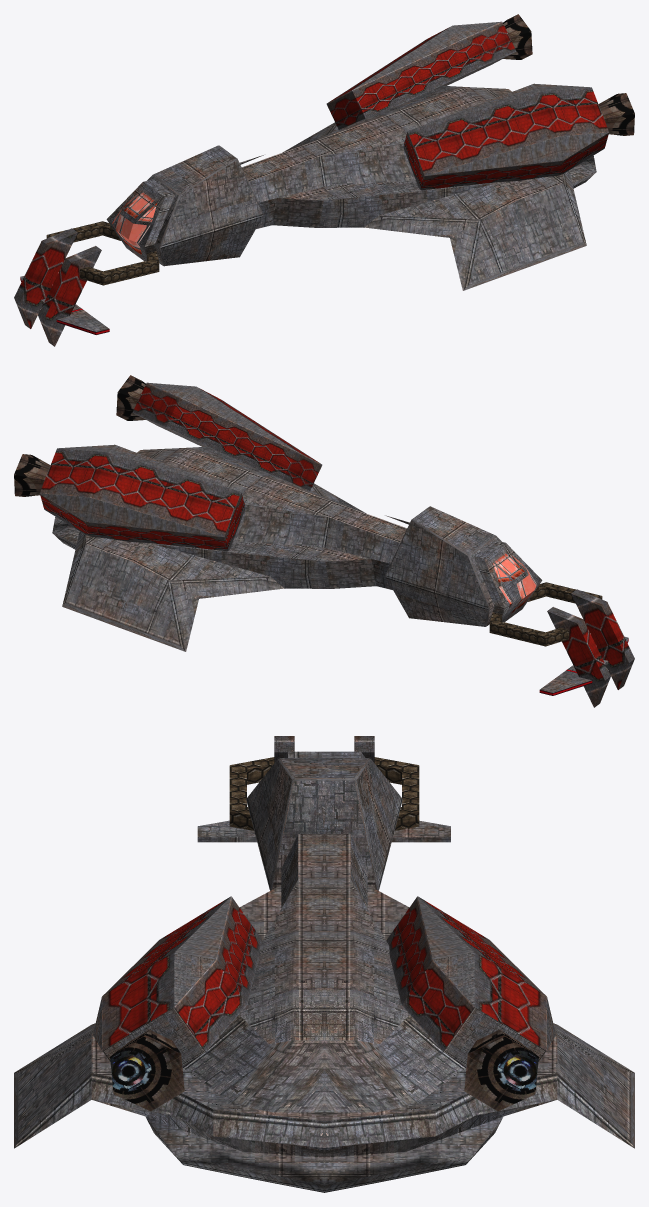
Rendered from npc13.obj.
3 views of the same model, one above another, from view 1: azimuth 30°, elevation 25°; view 2: azimuth 150°, elevation 25°; view 3: azimuth 270°, elevation 25° (orthographic). The views are drawn at different scales.
Visible parts, largest first — view 1: WING0, FUEL0, BODY0.011, FUEL010, FORK010, FORK0, FRAME0, ARM0.003, COCKPIT0.001, ENGINE0.002, ENGINE010, FORK020; view 2: WING0, FUEL010, BODY0.011, FUEL0, FORK0, FORK010, FRAME0, ARM0.003, ENGINE010, COCKPIT0.001, ENGINE0.002, FORK020; view 3: WING0, FUEL010, FUEL0, BODY0.011, ENGINE010, ENGINE0.002, ARM0.003, FORK020.
Part boxes in pixels (bbox=[...]): WING0: bbox=[242, 85, 596, 290]; FUEL0: bbox=[403, 83, 608, 190]; BODY0.011: bbox=[147, 145, 263, 266]; FUEL010: bbox=[326, 21, 516, 129]; FORK010: bbox=[14, 228, 77, 328]; FORK0: bbox=[38, 246, 101, 346]; FRAME0: bbox=[106, 179, 174, 261]; ARM0.003: bbox=[46, 221, 159, 285]; COCKPIT0.001: bbox=[112, 191, 157, 254]; ENGINE0.002: bbox=[598, 93, 634, 135]; ENGINE010: bbox=[503, 14, 532, 59]; FORK020: bbox=[20, 276, 109, 334]; WING0: bbox=[52, 446, 406, 651]; FUEL010: bbox=[40, 444, 245, 551]; BODY0.011: bbox=[385, 506, 501, 626]; FUEL0: bbox=[132, 382, 322, 490]; FORK0: bbox=[571, 589, 634, 689]; FORK010: bbox=[547, 607, 610, 707]; FRAME0: bbox=[474, 540, 542, 622]; ARM0.003: bbox=[489, 582, 602, 646]; ENGINE010: bbox=[14, 454, 50, 496]; COCKPIT0.001: bbox=[492, 552, 536, 613]; ENGINE0.002: bbox=[116, 375, 145, 420]; FORK020: bbox=[539, 636, 628, 695]; WING0: bbox=[14, 834, 634, 1192]; FUEL010: bbox=[386, 896, 555, 1065]; FUEL0: bbox=[93, 896, 262, 1065]; BODY0.011: bbox=[246, 758, 402, 890]; ENGINE010: bbox=[464, 1030, 538, 1111]; ENGINE0.002: bbox=[110, 1030, 184, 1111]; ARM0.003: bbox=[229, 757, 419, 830]; FORK020: bbox=[197, 820, 450, 842].
Bounding box in the file's own units: 997 × 283 × 573.
Materials: 16 (16 with a texture image).
